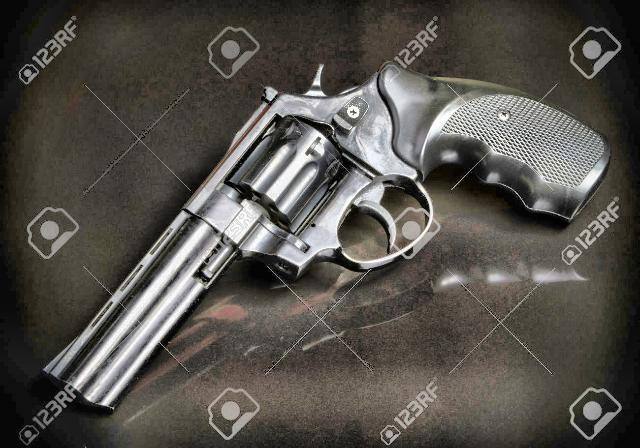pistol: (34, 60, 608, 412)
